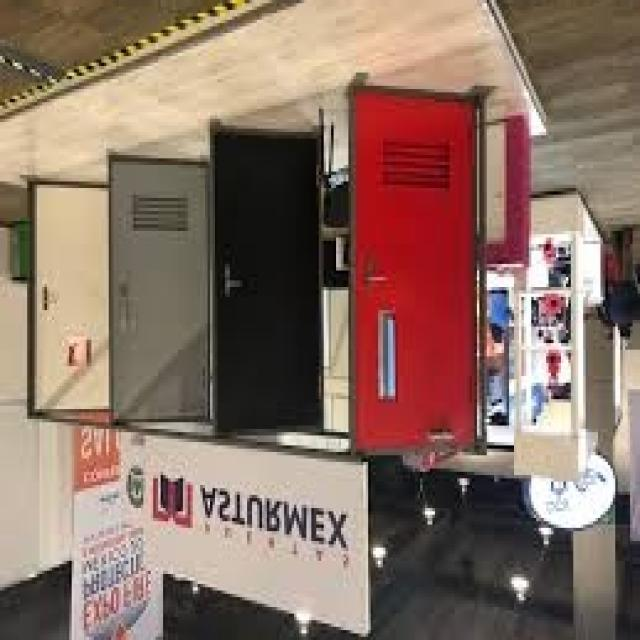door: (351, 87, 482, 457)
